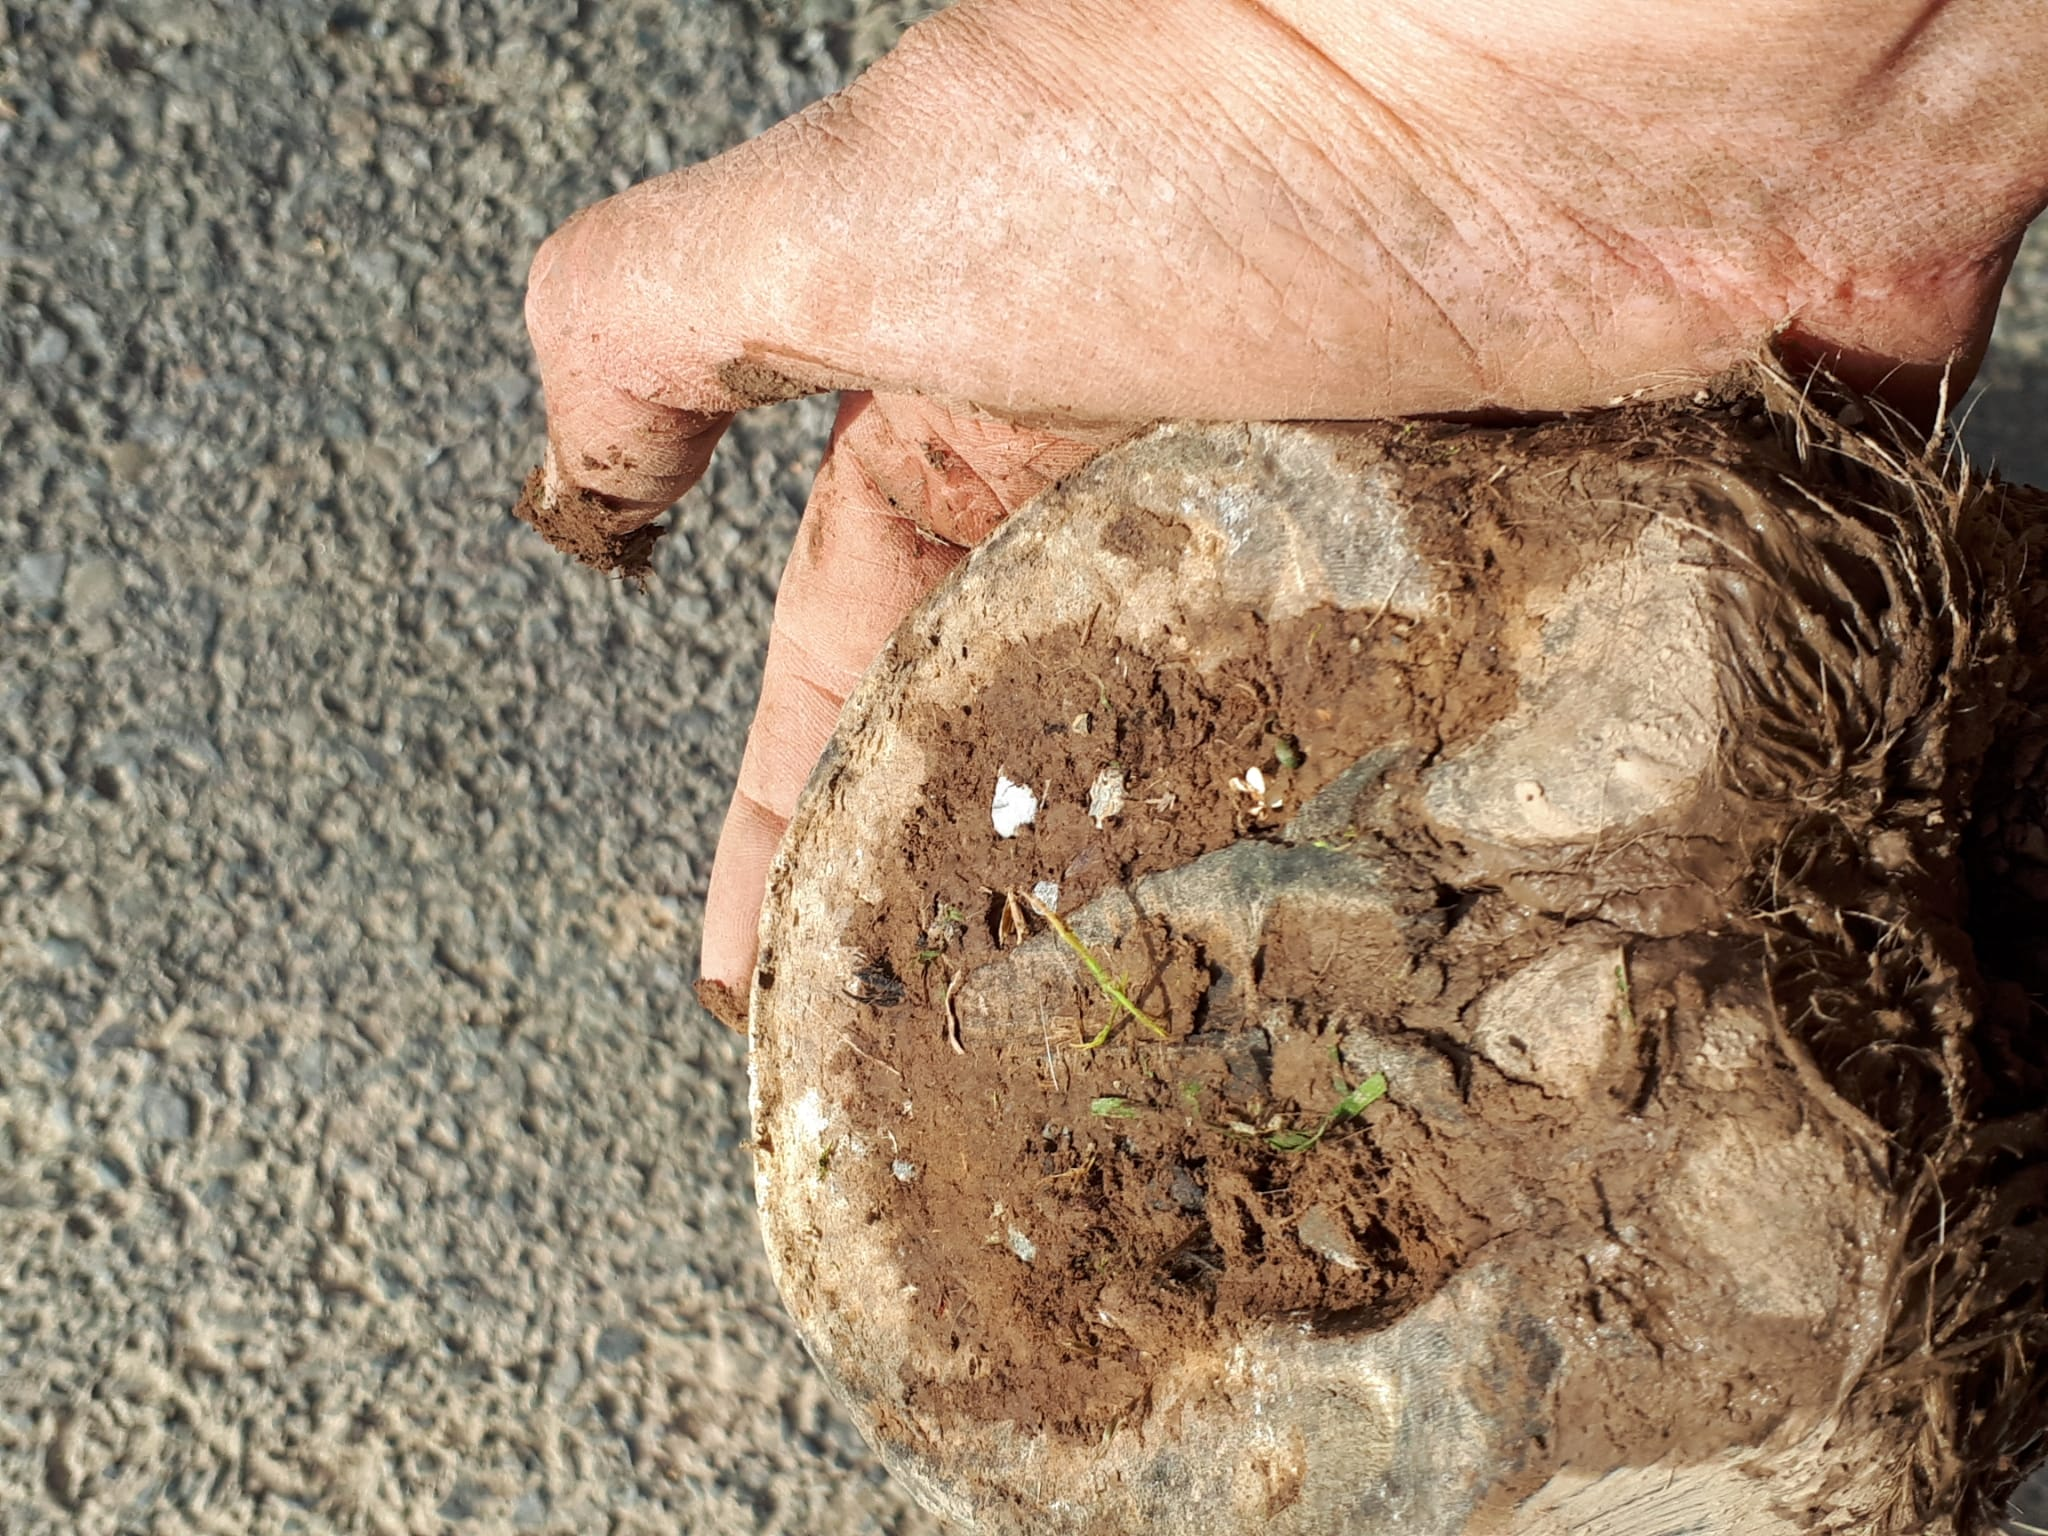horsesole: (747, 413, 1561, 1536)
